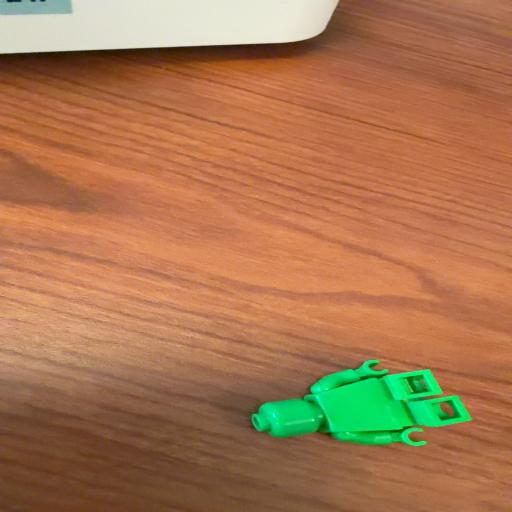UnoQ-minifig-detector: (196, 348, 491, 464)
